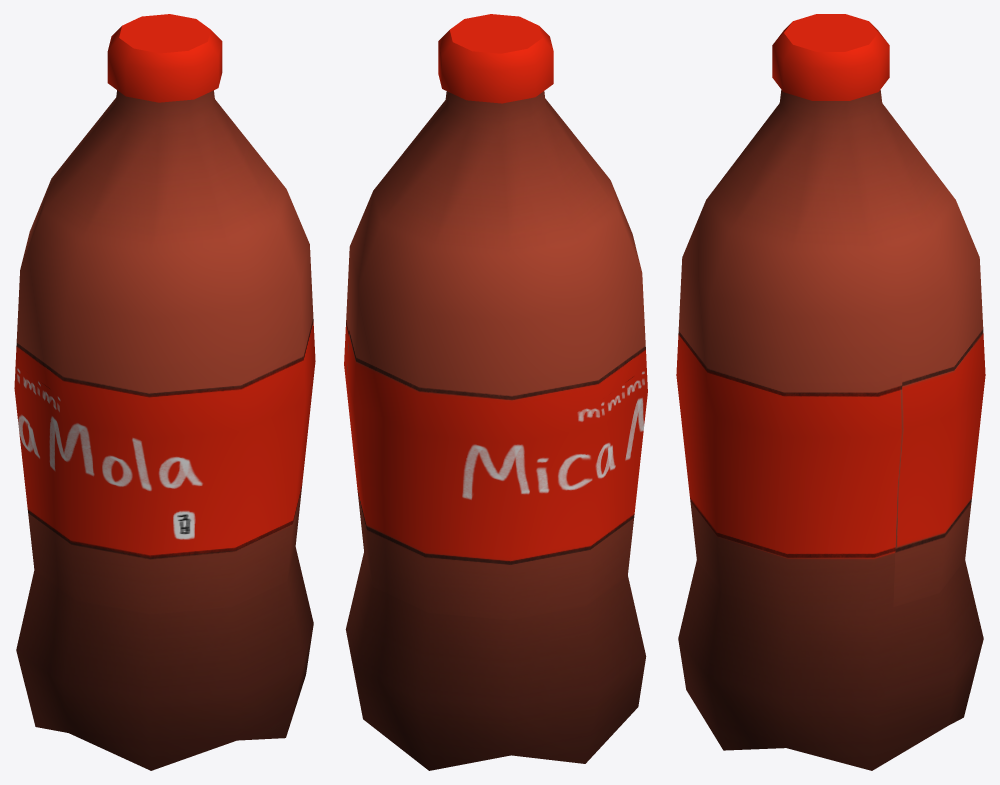
Rendered from Soda.fbx.
3 views of the same model, side by side, from view 1: azimuth 30°, elevation 25°; view 2: azimuth 150°, elevation 25°; view 3: azimuth 270°, elevation 25° (orthographic).
Parts seen in each view (by area): view 1: SodaBottle; view 2: SodaBottle; view 3: SodaBottle.
Part boxes in pixels (<box>): SodaBottle: <box>14,14,315,770</box>; SodaBottle: <box>344,14,647,770</box>; SodaBottle: <box>676,14,985,770</box>.
Size of the model in its own units: 17.34 by 18.24 by 44.56.
